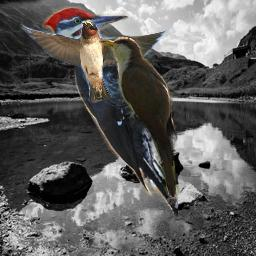Cuckoo: (99, 35, 181, 201)
Swallow: (19, 20, 169, 103)
Woodpecker: (42, 6, 178, 216)
